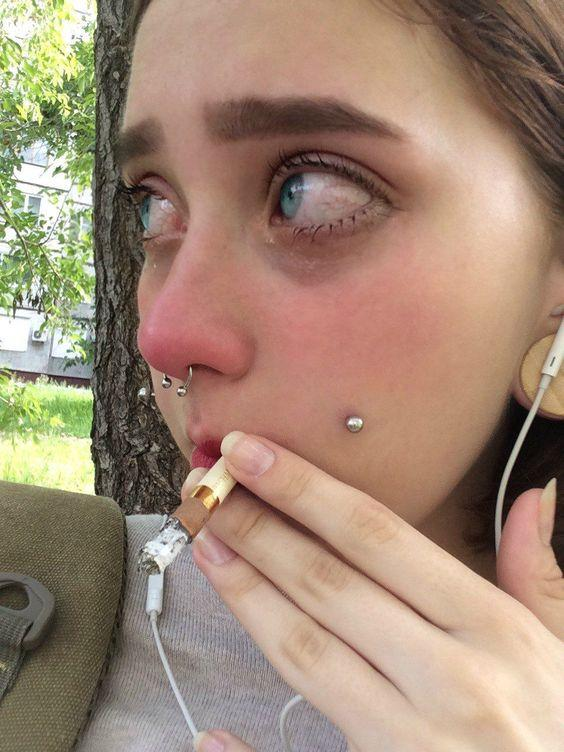cigarette: (137, 454, 237, 575)
